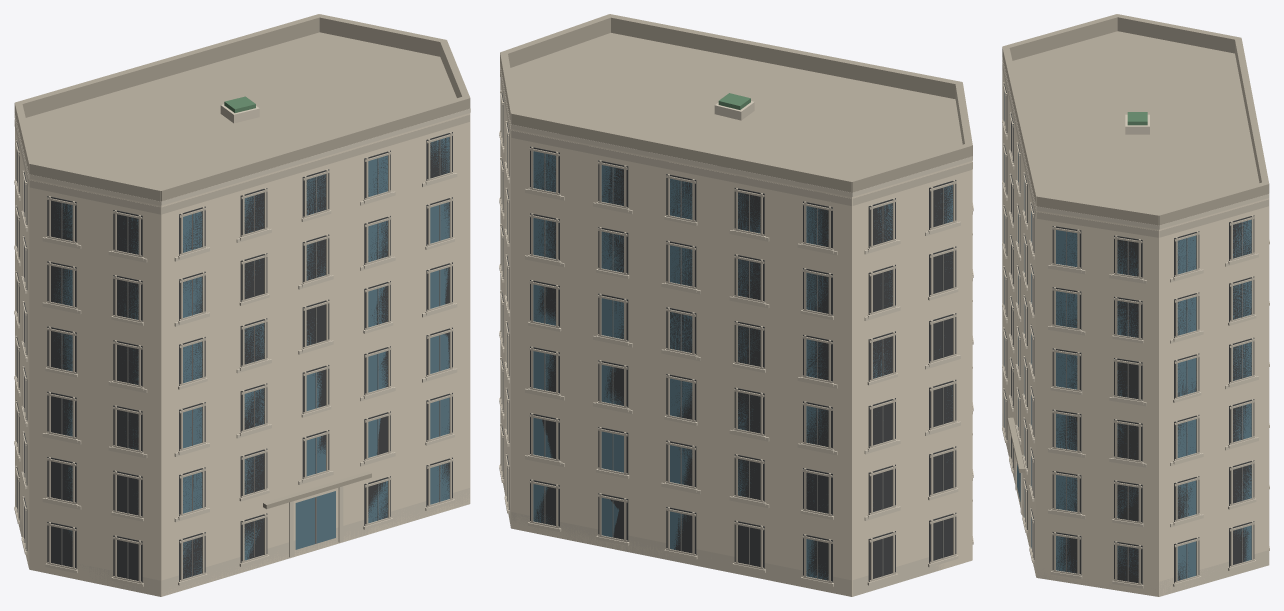
File: cop_art_deco_carioca_03__way_176886419.fbx
The picture shows the model from 3 angles, left to right: view 1: azimuth 30°, elevation 25°; view 2: azimuth 150°, elevation 25°; view 3: azimuth 270°, elevation 25°; orthographic projection. The views are drawn at different scales.
Parts seen in each view (by area): view 1: cop_art_deco_carioca_03__way_176886419_wall, cop_art_deco_carioca_03__way_176886419_roof, cop_art_deco_carioca_03__way_176886419_shadow, cop_art_deco_carioca_03__way_176886419_trim, cop_art_deco_carioca_03__way_176886419_glass, cop_art_deco_carioca_03__way_176886419_stone, cop_art_deco_carioca_03__way_176886419_metal; view 2: cop_art_deco_carioca_03__way_176886419_wall, cop_art_deco_carioca_03__way_176886419_roof, cop_art_deco_carioca_03__way_176886419_shadow, cop_art_deco_carioca_03__way_176886419_trim, cop_art_deco_carioca_03__way_176886419_glass, cop_art_deco_carioca_03__way_176886419_stone, cop_art_deco_carioca_03__way_176886419_metal; view 3: cop_art_deco_carioca_03__way_176886419_wall, cop_art_deco_carioca_03__way_176886419_roof, cop_art_deco_carioca_03__way_176886419_shadow, cop_art_deco_carioca_03__way_176886419_trim, cop_art_deco_carioca_03__way_176886419_glass, cop_art_deco_carioca_03__way_176886419_stone, cop_art_deco_carioca_03__way_176886419_metal.
Boxes of the visible parts, left/top/right/bottom form: cop_art_deco_carioca_03__way_176886419_wall: left=15, top=113, right=470, bottom=596; cop_art_deco_carioca_03__way_176886419_roof: left=14, top=14, right=470, bottom=509; cop_art_deco_carioca_03__way_176886419_shadow: left=16, top=132, right=452, bottom=582; cop_art_deco_carioca_03__way_176886419_trim: left=14, top=114, right=469, bottom=583; cop_art_deco_carioca_03__way_176886419_glass: left=54, top=137, right=449, bottom=578; cop_art_deco_carioca_03__way_176886419_stone: left=14, top=104, right=470, bottom=596; cop_art_deco_carioca_03__way_176886419_metal: left=17, top=139, right=440, bottom=578; cop_art_deco_carioca_03__way_176886419_wall: left=500, top=79, right=972, bottom=596; cop_art_deco_carioca_03__way_176886419_roof: left=500, top=14, right=972, bottom=192; cop_art_deco_carioca_03__way_176886419_shadow: left=501, top=92, right=956, bottom=582; cop_art_deco_carioca_03__way_176886419_trim: left=500, top=69, right=972, bottom=583; cop_art_deco_carioca_03__way_176886419_glass: left=533, top=151, right=952, bottom=579; cop_art_deco_carioca_03__way_176886419_stone: left=499, top=64, right=973, bottom=596; cop_art_deco_carioca_03__way_176886419_metal: left=501, top=103, right=943, bottom=578; cop_art_deco_carioca_03__way_176886419_wall: left=1002, top=70, right=1269, bottom=596; cop_art_deco_carioca_03__way_176886419_roof: left=1002, top=14, right=1269, bottom=472; cop_art_deco_carioca_03__way_176886419_shadow: left=1004, top=83, right=1254, bottom=584; cop_art_deco_carioca_03__way_176886419_trim: left=1002, top=62, right=1268, bottom=585; cop_art_deco_carioca_03__way_176886419_glass: left=1004, top=92, right=1251, bottom=580; cop_art_deco_carioca_03__way_176886419_stone: left=1002, top=57, right=1269, bottom=596; cop_art_deco_carioca_03__way_176886419_metal: left=1004, top=93, right=1242, bottom=581.
Bounding box in the file's own units: 2121 × 1869 × 1189.
